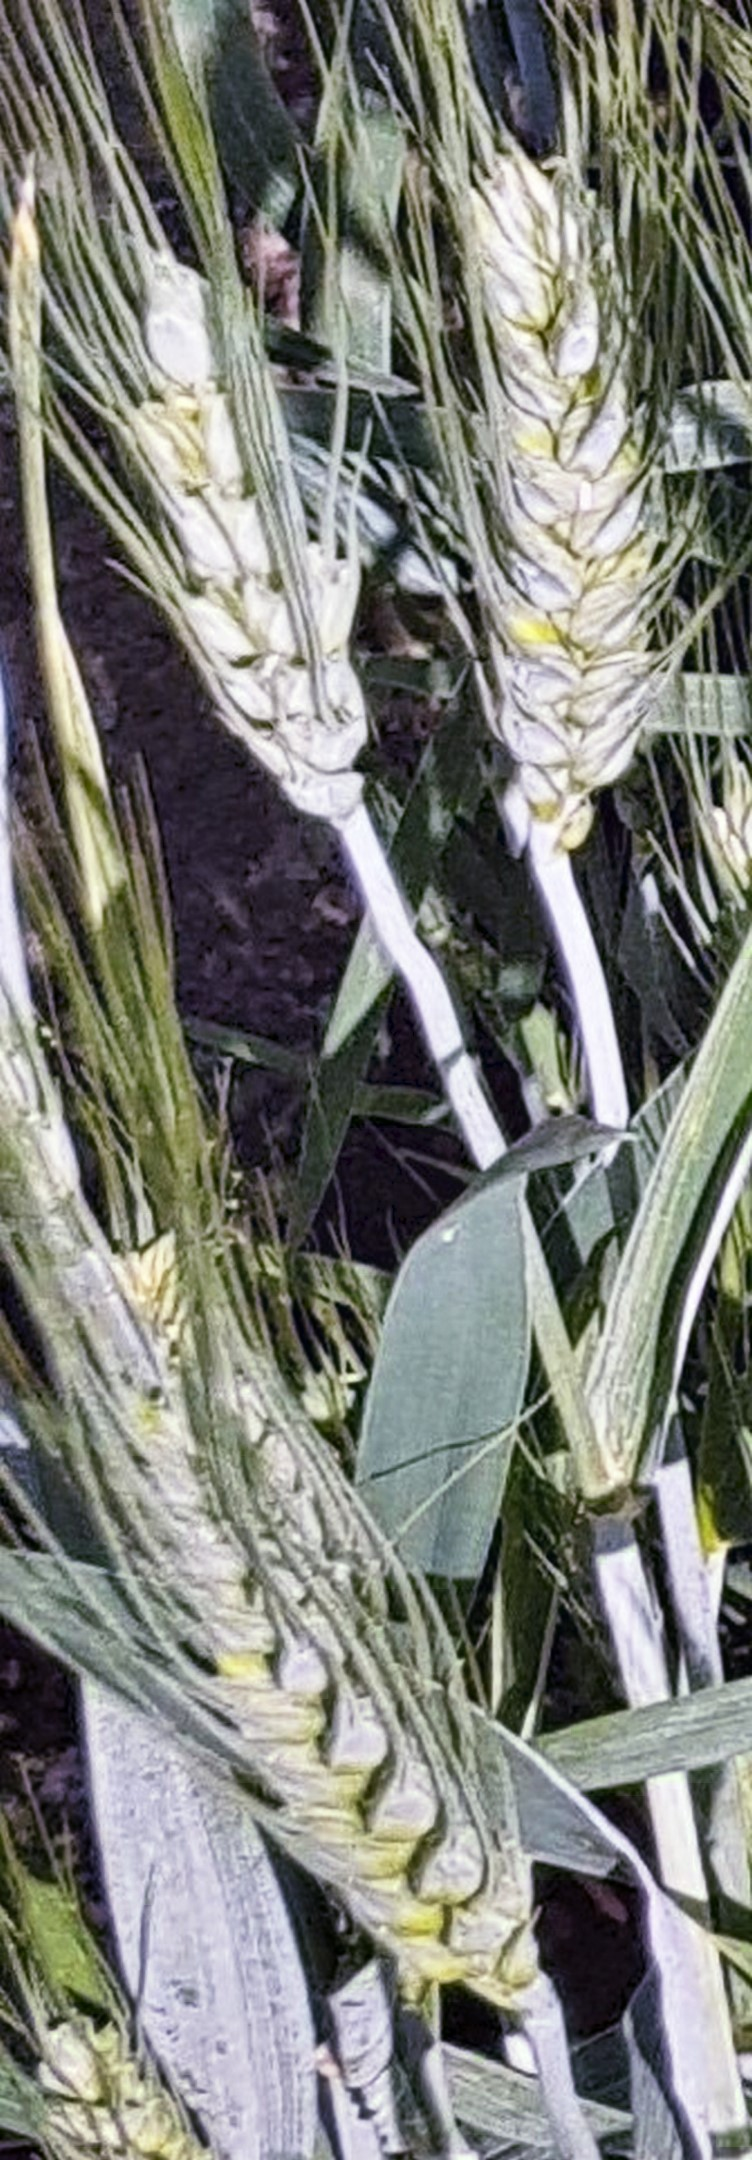Healthy Wheat: (54, 1247, 583, 1984), (404, 123, 712, 793)
